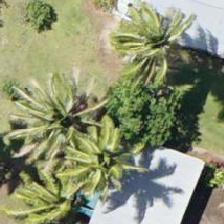coconut_tree: (16, 69, 106, 159), (111, 0, 201, 87)
